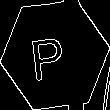P_N: (35, 28, 75, 82)
